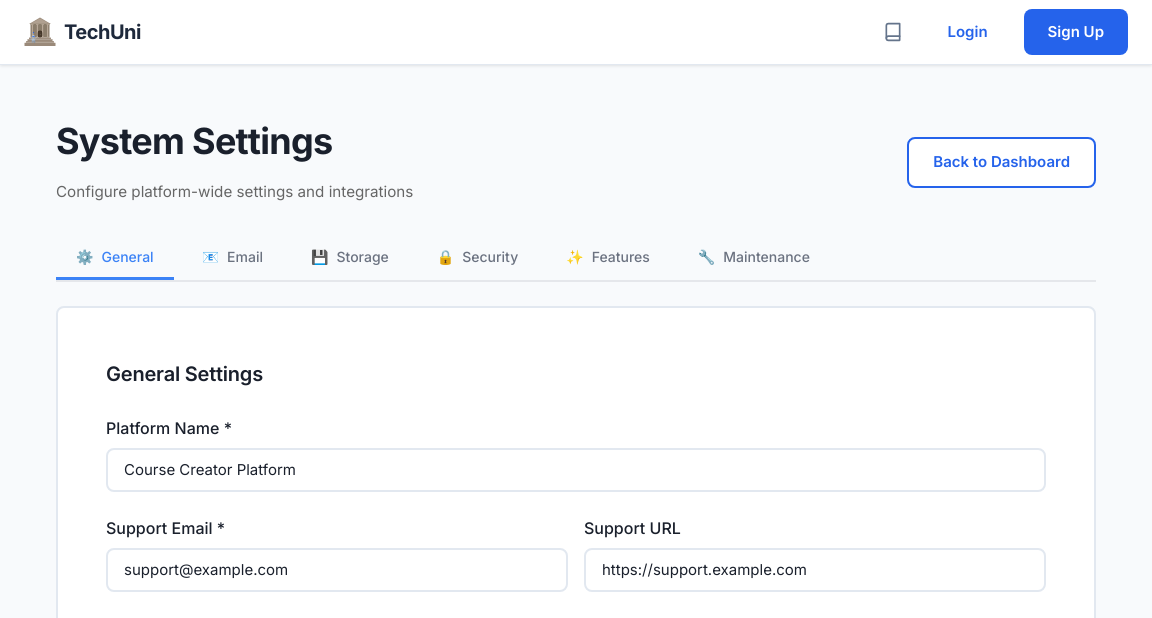
SystemSettings Component › Feature Toggles › toggles maintenance mode
What coordinates should you click on to do the following:
click the button "🔧Maintenance"
I would click on:
 (754, 258)
Its box is [678, 236, 830, 280].
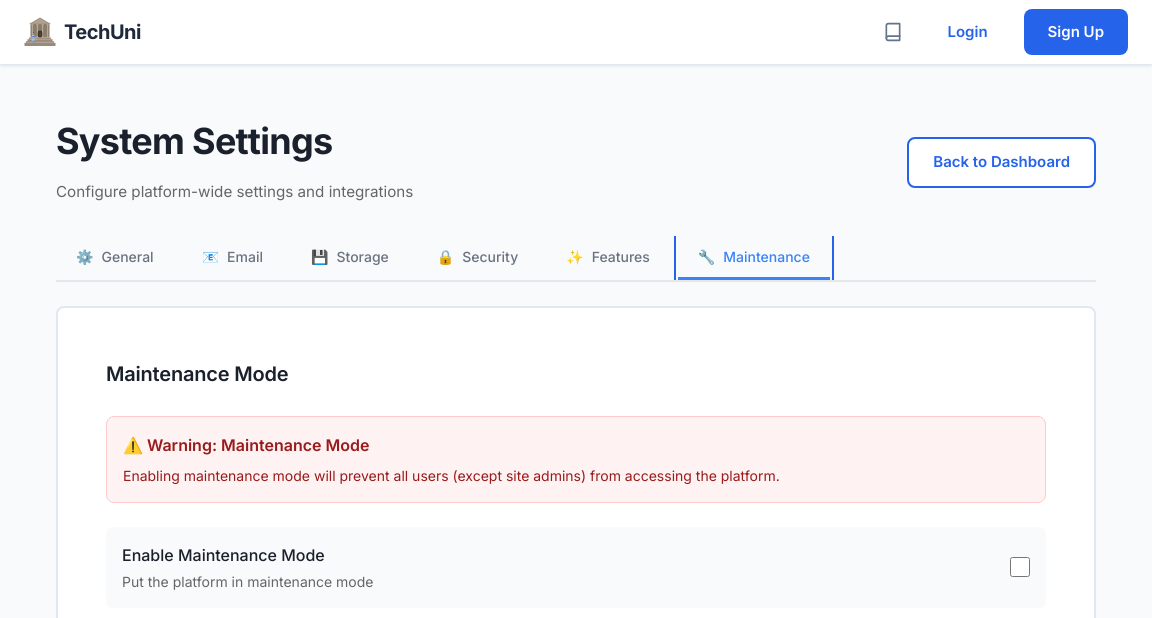
Check: the text "Enable Maintenance Mode" is shown, box [122, 545, 325, 565]
Check: the checkbox is shown, box [1010, 557, 1030, 577]
